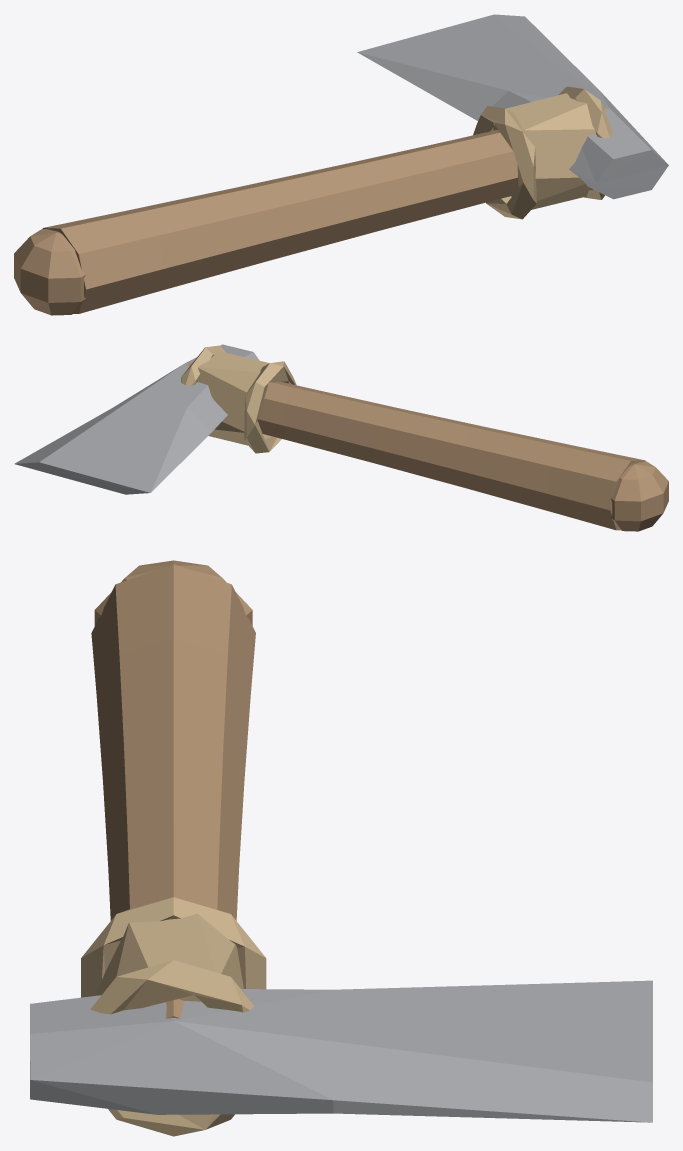
File: 16-Crafting_hacha_piedra.glb
3 renders of one model, top to bottom at view 1: azimuth 30°, elevation 25°; view 2: azimuth 150°, elevation 25°; view 3: azimuth 270°, elevation 25°, orthographic. The views are drawn at different scales.
Visible parts, largest first — view 1: SM_Hacha_M_Madera_Hacha, SM_Hacha_M_Piedra_Hacha, SM_Hacha_M_Cuero_Hacha; view 2: SM_Hacha_M_Madera_Hacha, SM_Hacha_M_Piedra_Hacha, SM_Hacha_M_Cuero_Hacha; view 3: SM_Hacha_M_Piedra_Hacha, SM_Hacha_M_Madera_Hacha, SM_Hacha_M_Cuero_Hacha.
Boxes of the visible parts, bbox=[...] form: SM_Hacha_M_Madera_Hacha: bbox=[14, 108, 607, 315]; SM_Hacha_M_Piedra_Hacha: bbox=[357, 14, 668, 199]; SM_Hacha_M_Cuero_Hacha: bbox=[473, 86, 612, 219]; SM_Hacha_M_Madera_Hacha: bbox=[187, 363, 668, 531]; SM_Hacha_M_Piedra_Hacha: bbox=[14, 344, 259, 494]; SM_Hacha_M_Cuero_Hacha: bbox=[181, 345, 296, 453]; SM_Hacha_M_Piedra_Hacha: bbox=[30, 980, 652, 1122]; SM_Hacha_M_Madera_Hacha: bbox=[91, 560, 255, 1018]; SM_Hacha_M_Cuero_Hacha: bbox=[81, 897, 266, 1136].
Size of the model in its own units: 0.7659 by 0.122 by 0.3901.
